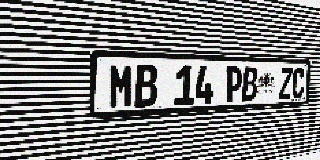1: (174, 65, 195, 105)
4: (195, 66, 214, 104)
B: (134, 64, 158, 108), (241, 67, 258, 102)
C: (291, 68, 305, 99)
M: (109, 64, 134, 109)
P: (225, 66, 243, 102)
Z: (279, 68, 293, 99)
